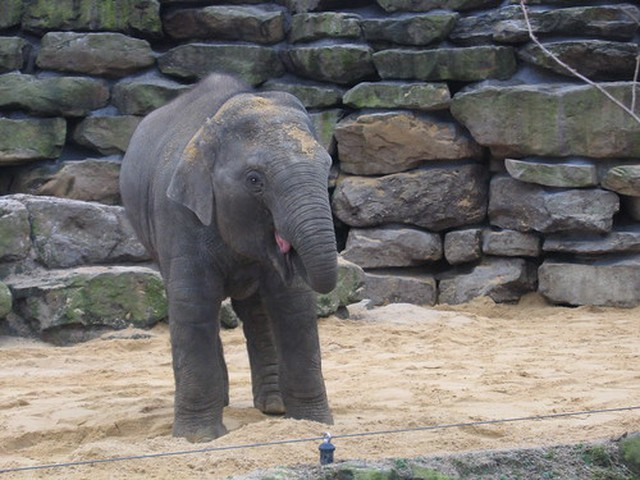Elephant: (118, 70, 342, 432)
